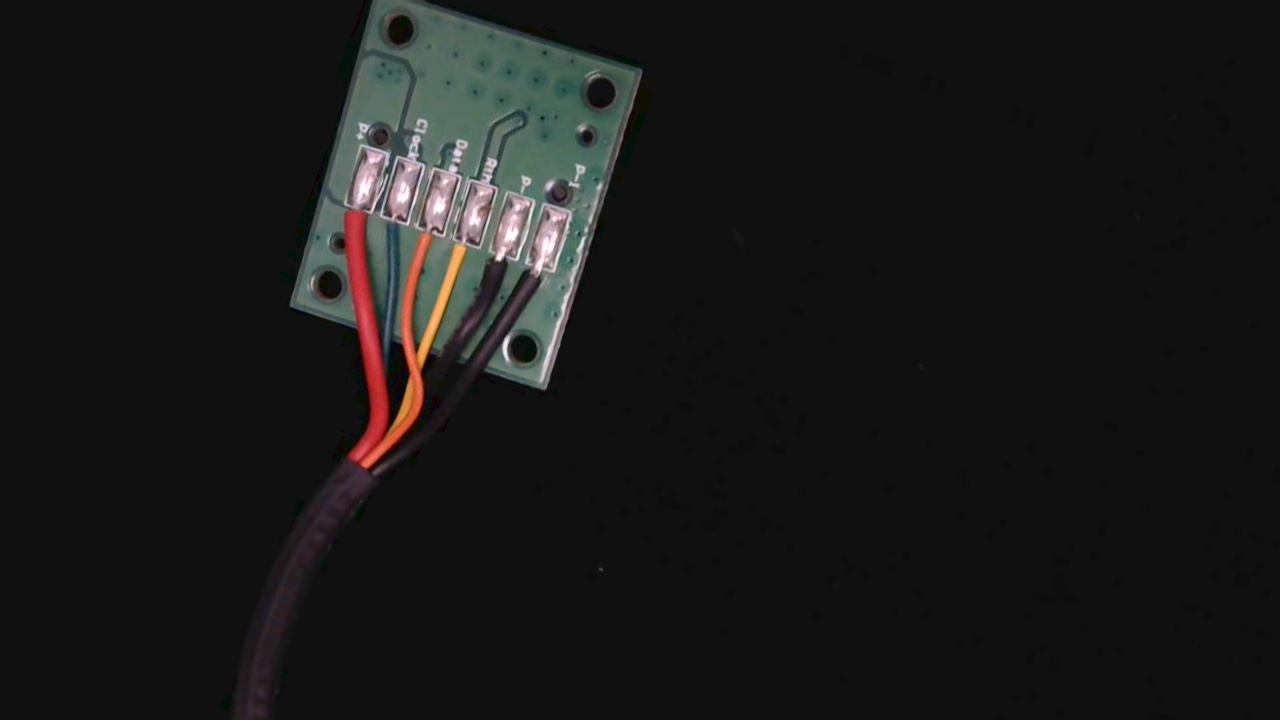Black: (468, 237, 520, 310)
Black1: (506, 248, 558, 319)
Green: (363, 200, 413, 264)
Orange: (402, 214, 446, 267)
Red: (327, 192, 377, 258)
Yellow: (430, 222, 485, 292)
